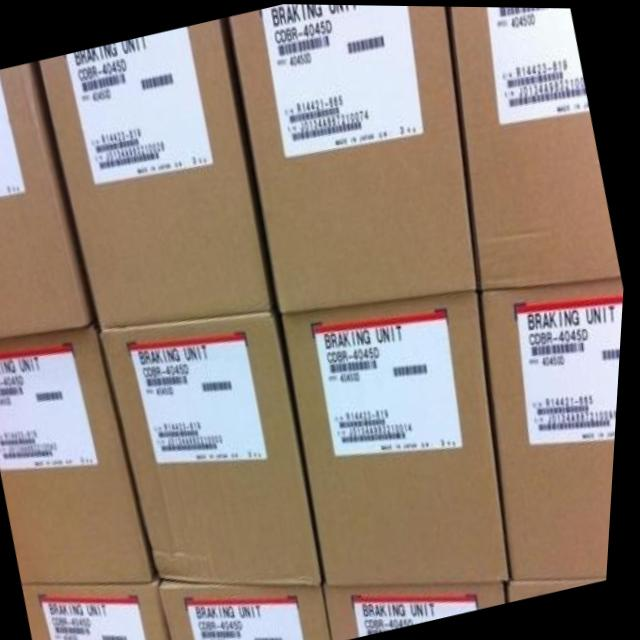box: (227, 3, 478, 310), (41, 18, 279, 327), (280, 293, 517, 583), (104, 308, 331, 581), (446, 5, 623, 285), (0, 314, 163, 584), (483, 277, 627, 577), (0, 62, 101, 338), (29, 567, 180, 640), (331, 581, 512, 640), (171, 577, 339, 640)
